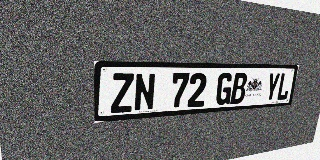2: (187, 73, 207, 107)
7: (169, 73, 190, 109)
B: (230, 73, 248, 104)
G: (215, 73, 234, 105)
L: (276, 73, 292, 101)
N: (134, 73, 156, 112)
Y: (264, 73, 281, 102)
Z: (111, 73, 134, 113)
